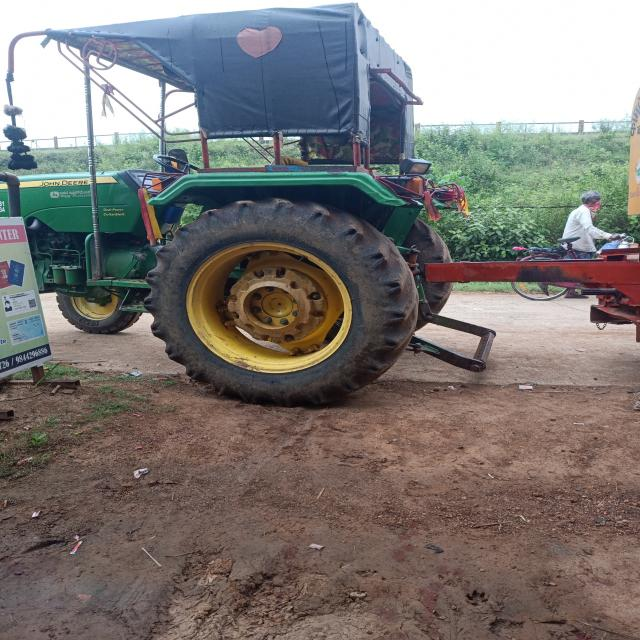Tractor: (9, 11, 468, 370)
